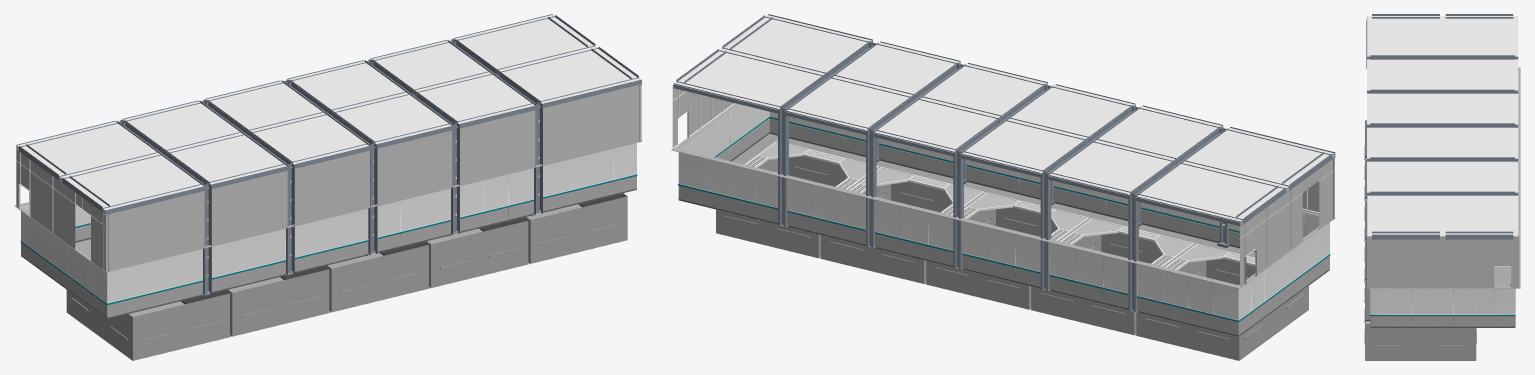
The picture shows the model from 3 angles, left to right: view 1: azimuth 30°, elevation 25°; view 2: azimuth 150°, elevation 25°; view 3: azimuth 270°, elevation 25°; orthographic projection. The views are drawn at different scales.
Visible parts, largest first — view 1: SM_H_Building_FutureTech_PipeHouse_01_InterWall_01; view 2: SM_H_Building_FutureTech_PipeHouse_01_InterWall_01; view 3: SM_H_Building_FutureTech_PipeHouse_01_InterWall_01.
Boxes of the visible parts, bbox=[...] form: SM_H_Building_FutureTech_PipeHouse_01_InterWall_01: bbox=[14, 14, 642, 360]; SM_H_Building_FutureTech_PipeHouse_01_InterWall_01: bbox=[671, 14, 1335, 360]; SM_H_Building_FutureTech_PipeHouse_01_InterWall_01: bbox=[1364, 14, 1520, 360].
Size of the model in its own units: 633 by 2122 by 593.
